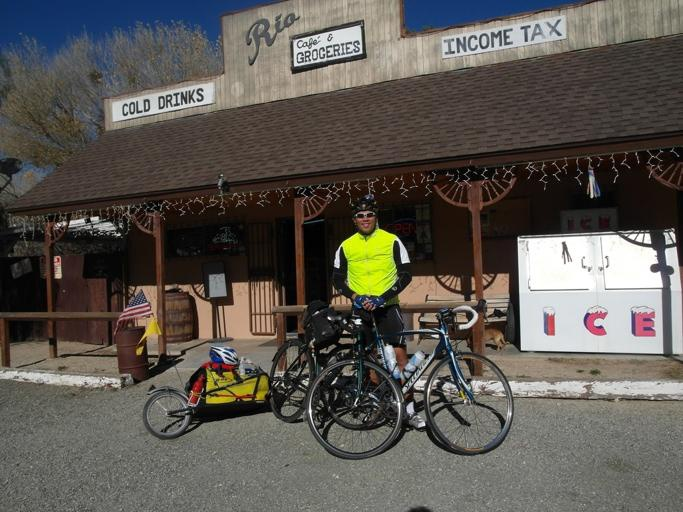non-vehicle: (322, 298, 516, 455), (266, 301, 408, 461), (140, 358, 272, 442)
